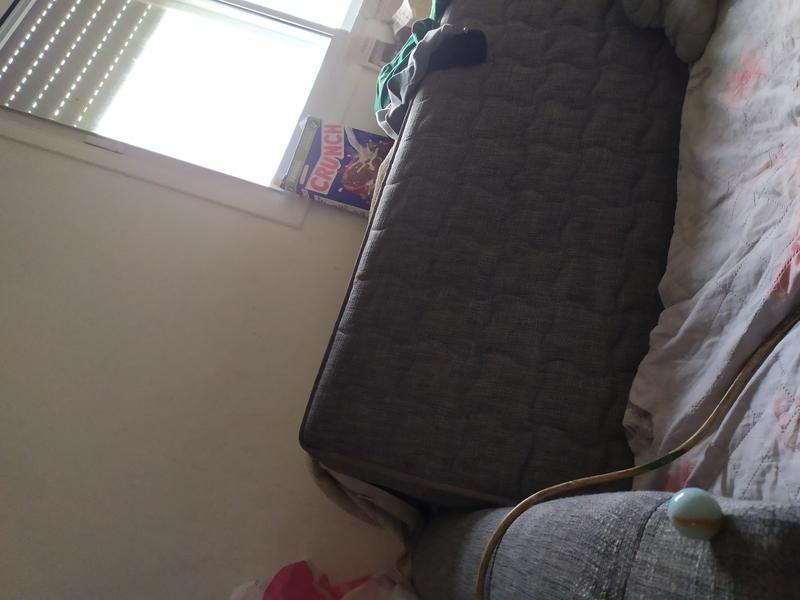Warning: (666, 485, 726, 543)
